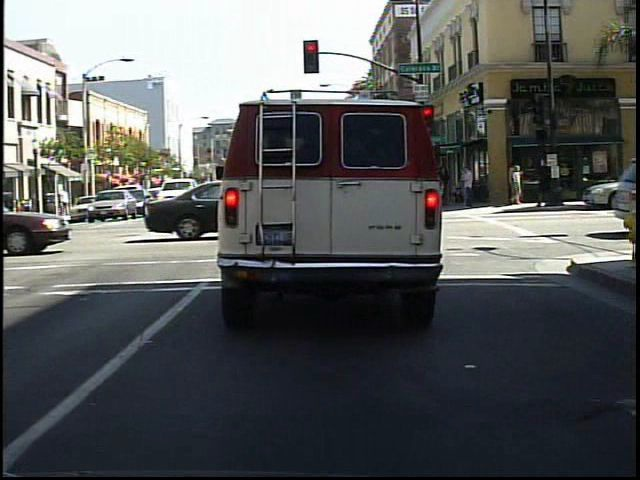person: (534, 157, 555, 212), (511, 165, 531, 209)
